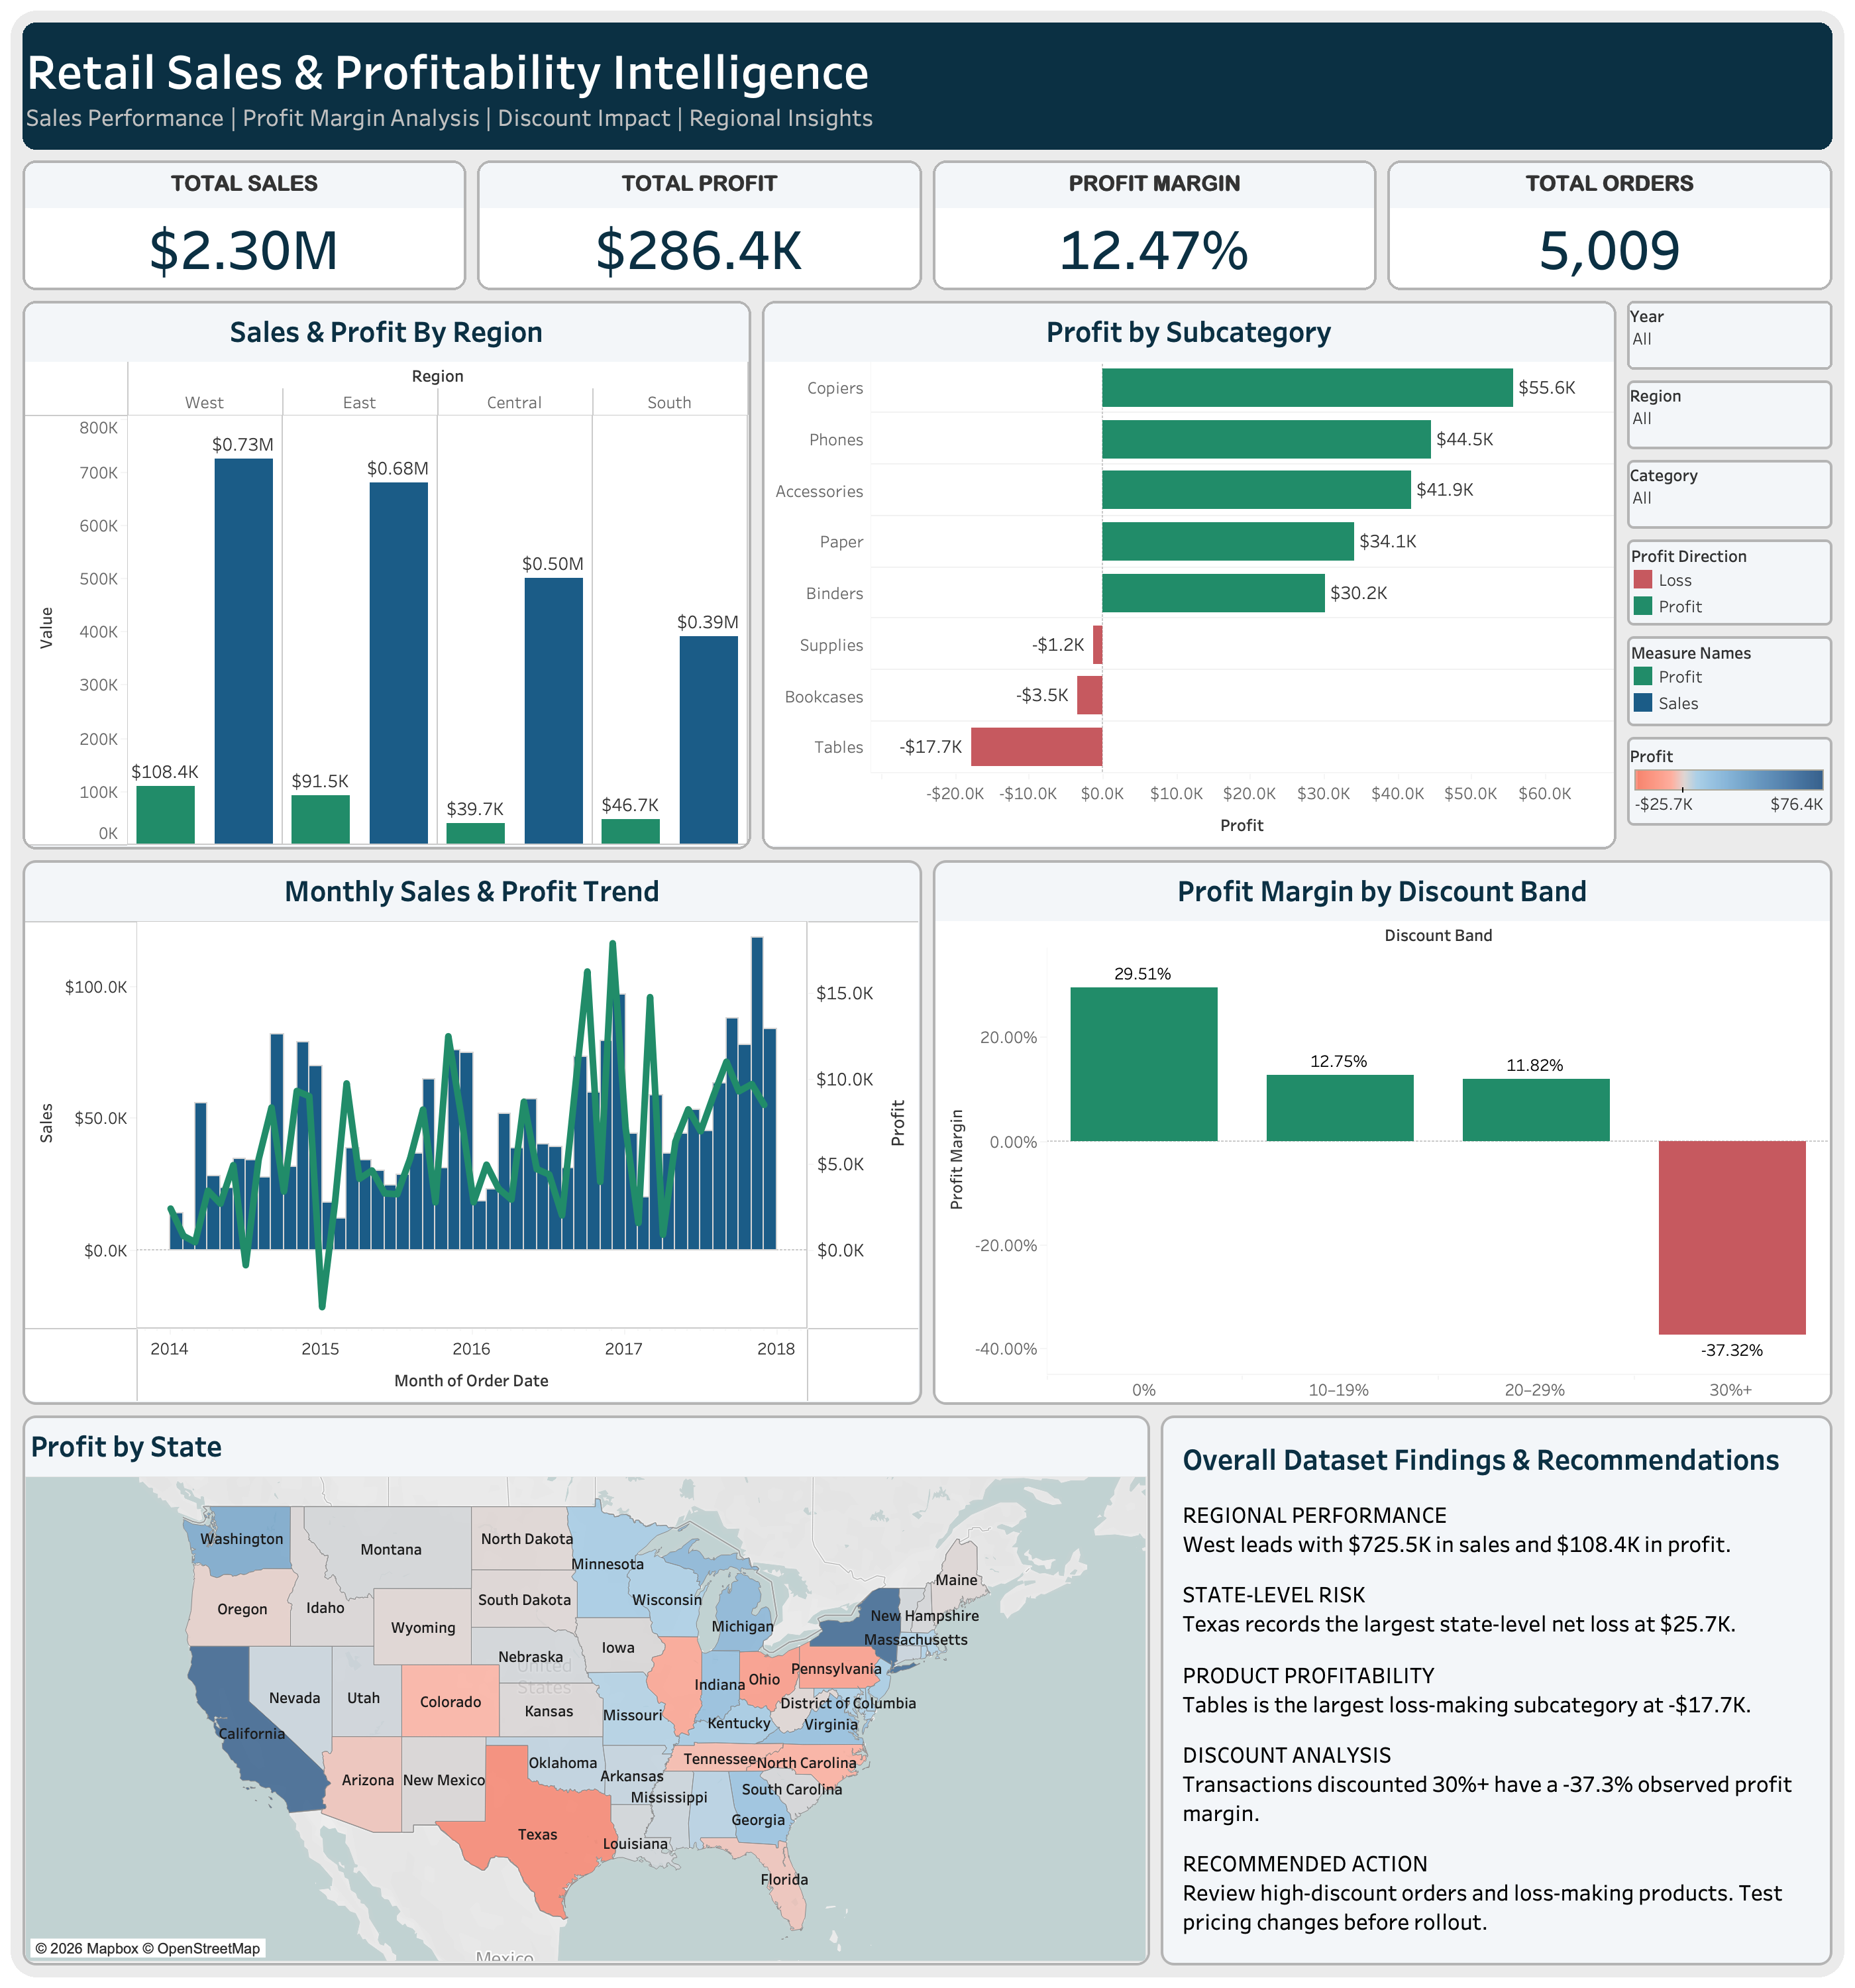

What the dashboard file says about the page in this screenshot:
{"tool":"tableau","page":{"name":"Dashboard 1","canvas":[1400,1500],"ordinal":0},"visuals":[{"type":"text","box":[13,13,1374,104.2]},{"type":"worksheet","title":"KPI - Total Orders","mark":"Automatic","box":[1043,117,344,106]},{"type":"worksheet","title":"KPI - Total Sales","mark":"Automatic","box":[13,117.2,343.4,106.2]},{"type":"worksheet","title":"KPI - Total Profit","mark":"Automatic","box":[356.4,117.2,343.5,106.2]},{"type":"worksheet","title":"KPI - Profit Margin","mark":"Automatic","box":[699.9,117.2,343.5,106.2]},{"type":"worksheet","title":"Chart - Sales & Profit by Region.","mark":"Bar","cols":["region"],"box":[13,223.4,558,421.2]},{"type":"worksheet","title":"Chart - Profit by Subcategory","mark":"Bar","rows":["subcategory"],"cols":["profit"],"box":[571,223.4,653,421.2]},{"type":"filter","title":"Chart - Profit by State","param":"[federated.1rojaz21dk4mic12iuwn10he3per].[none:year:ok]","box":[1224,223.4,163,60]},{"type":"filter","title":"Chart - Profit by State","param":"[federated.1rojaz21dk4mic12iuwn10he3per].[none:region:nk]","box":[1224,283.4,163,60]},{"type":"filter","title":"Chart - Profit by State","param":"[federated.1rojaz21dk4mic12iuwn10he3per].[none:category:nk]","box":[1224,343.4,163,60]},{"type":"legend","title":"Chart - Profit by Subcategory","param":"[federated.1rojaz21dk4mic12iuwn10he3per].[usr:Calculation_5491161846902786:nk]","box":[1224,403.4,163,73]},{"type":"legend","title":"Chart - Sales & Profit by Region.","param":"[federated.1rojaz21dk4mic12iuwn10he3per].[:Measure Names]","box":[1224,476.4,163,76]},{"type":"legend","title":"Chart - Profit by State","param":"[federated.1rojaz21dk4mic12iuwn10he3per].[sum:profit:qk]","box":[1224,552.4,163,75]},{"type":"worksheet","title":"Monthly Sales & Profit Trend","mark":"Bar","rows":["sales","profit"],"cols":["order_date"],"box":[13,645,687,419]},{"type":"worksheet","title":"Chart - Discount Band Analysis","mark":"Bar","rows":["Calculation_5491161833418752"],"cols":["discount_band"],"box":[700,645,687,419]},{"type":"worksheet","title":"Chart - Profit by State","mark":"Multipolygon","box":[13,1063.8,859,423.2]},{"type":"text","box":[872,1063.8,515,423.2]}]}

Visuals, with their boxes in screenshot pixels (x1, y1, x2, y2), scaled from the page's 1400x1500 canvas onto the 1855x1988 screenshot:
text: bbox=[17, 17, 1838, 155]
"KPI - Total Orders" worksheet: bbox=[1382, 155, 1838, 296]
"KPI - Total Sales" worksheet: bbox=[17, 155, 472, 296]
"KPI - Total Profit" worksheet: bbox=[472, 155, 927, 296]
"KPI - Profit Margin" worksheet: bbox=[927, 155, 1383, 296]
"Chart - Sales & Profit by Region." worksheet (Bar marks): bbox=[17, 296, 757, 854]
"Chart - Profit by Subcategory" worksheet (Bar marks): bbox=[757, 296, 1622, 854]
"Chart - Profit by State" filter: bbox=[1622, 296, 1838, 376]
"Chart - Profit by State" filter: bbox=[1622, 376, 1838, 455]
"Chart - Profit by State" filter: bbox=[1622, 455, 1838, 535]
"Chart - Profit by Subcategory" legend: bbox=[1622, 535, 1838, 632]
"Chart - Sales & Profit by Region." legend: bbox=[1622, 632, 1838, 732]
"Chart - Profit by State" legend: bbox=[1622, 732, 1838, 832]
"Monthly Sales & Profit Trend" worksheet (Bar marks): bbox=[17, 855, 927, 1410]
"Chart - Discount Band Analysis" worksheet (Bar marks): bbox=[927, 855, 1838, 1410]
"Chart - Profit by State" worksheet (Multipolygon marks): bbox=[17, 1410, 1155, 1971]
text: bbox=[1155, 1410, 1838, 1971]
